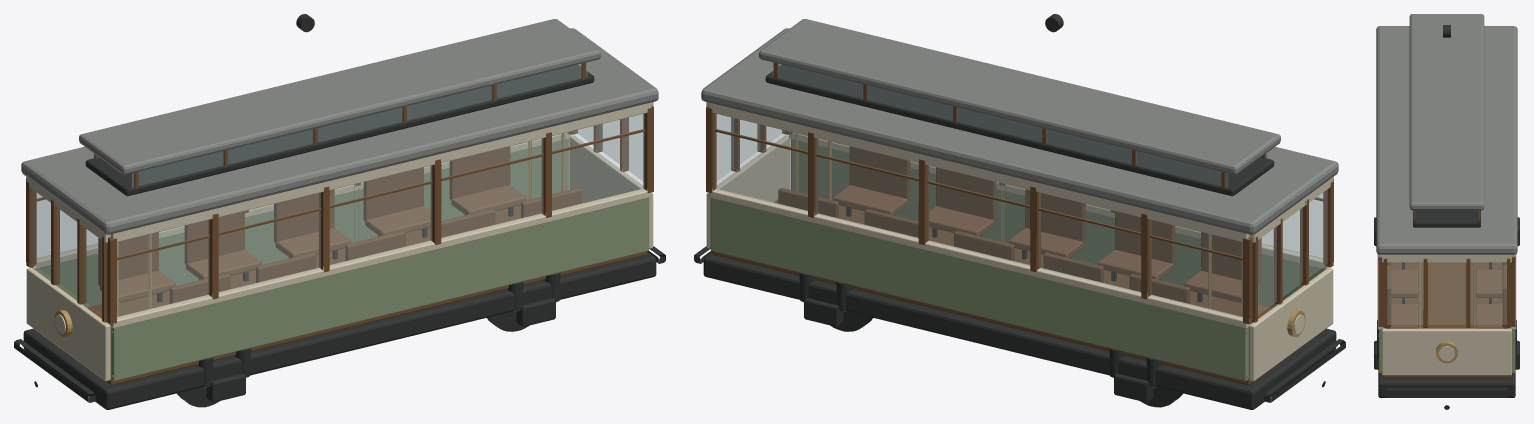
3 renders of one model, left to right at view 1: azimuth 30°, elevation 25°; view 2: azimuth 150°, elevation 25°; view 3: azimuth 270°, elevation 25°, orthographic. The views are drawn at different scales.
Parts seen in each view (by area): view 1: T01_Strassenbahn; view 2: T01_Strassenbahn; view 3: T01_Strassenbahn.
Boxes of the visible parts, bbox=[...] form: T01_Strassenbahn: bbox=[14, 14, 665, 409]; T01_Strassenbahn: bbox=[694, 14, 1345, 409]; T01_Strassenbahn: bbox=[1374, 14, 1519, 409].
Bounding box in the file's own units: 8.84 × 4.78 × 2.25.
